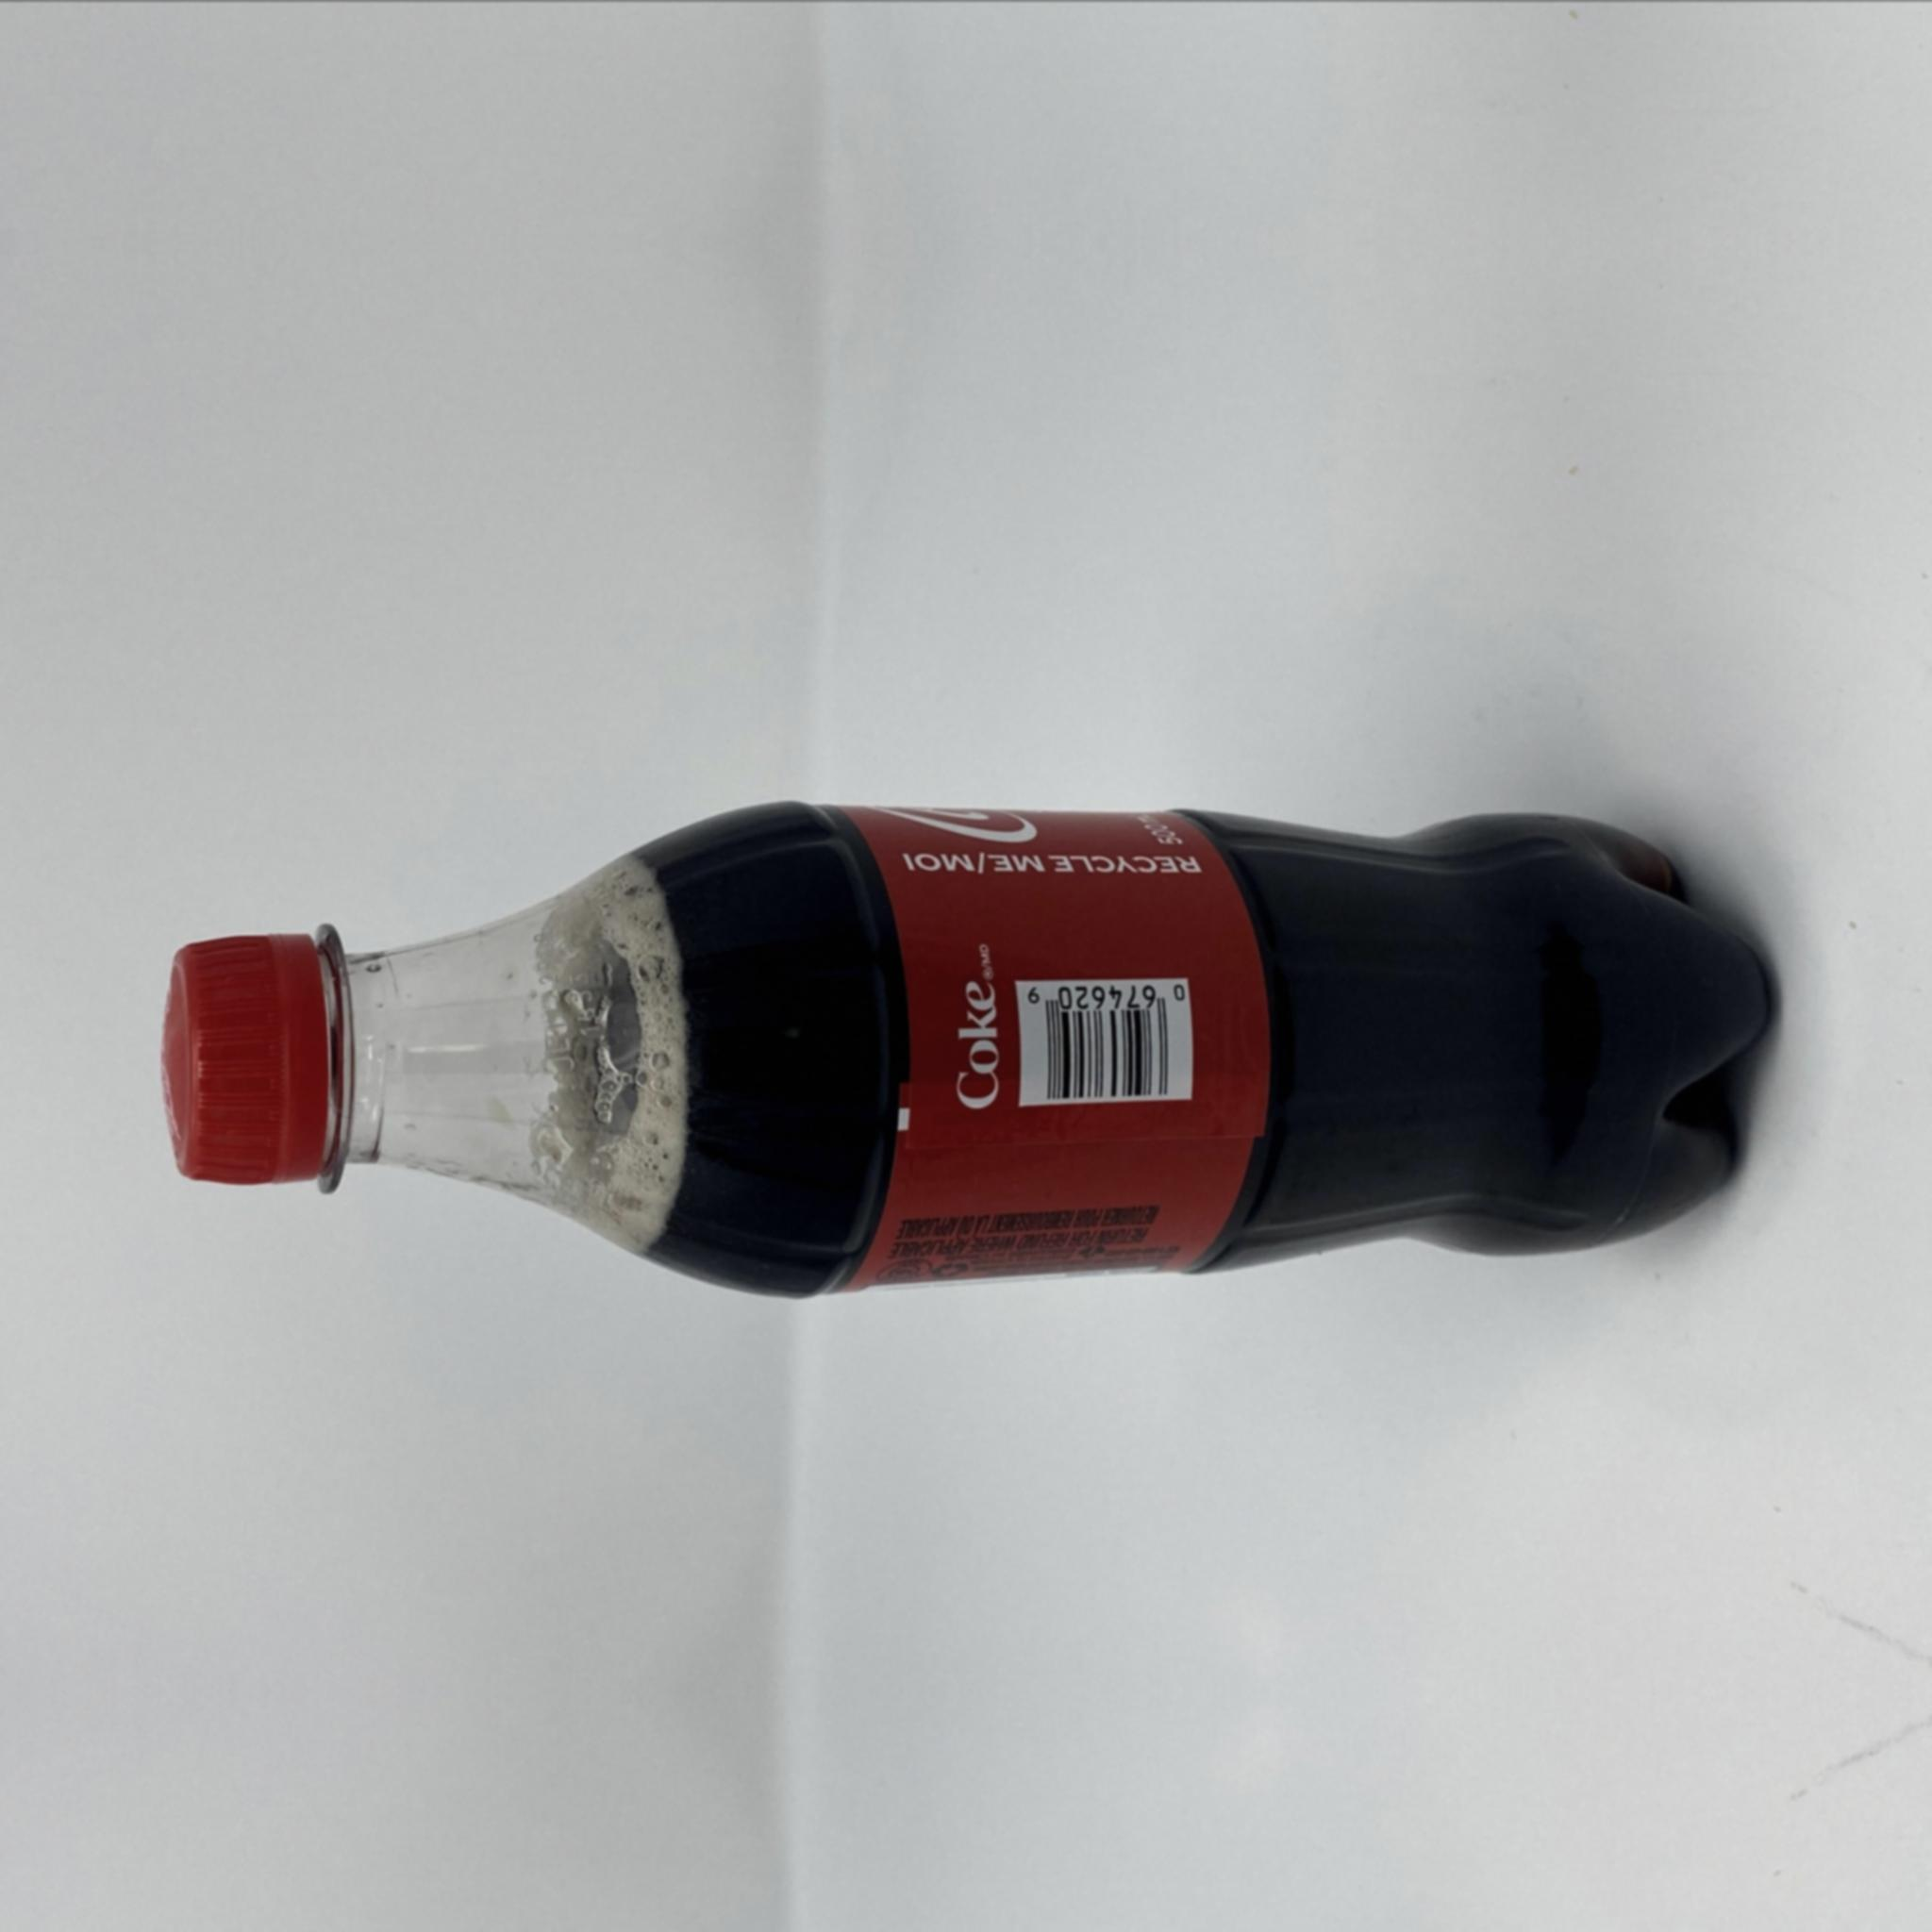PET: (163, 798, 1780, 1299)
cocacola: (163, 798, 1780, 1299)
plastic: (163, 798, 1780, 1299)
soft-drink: (163, 798, 1780, 1299)
